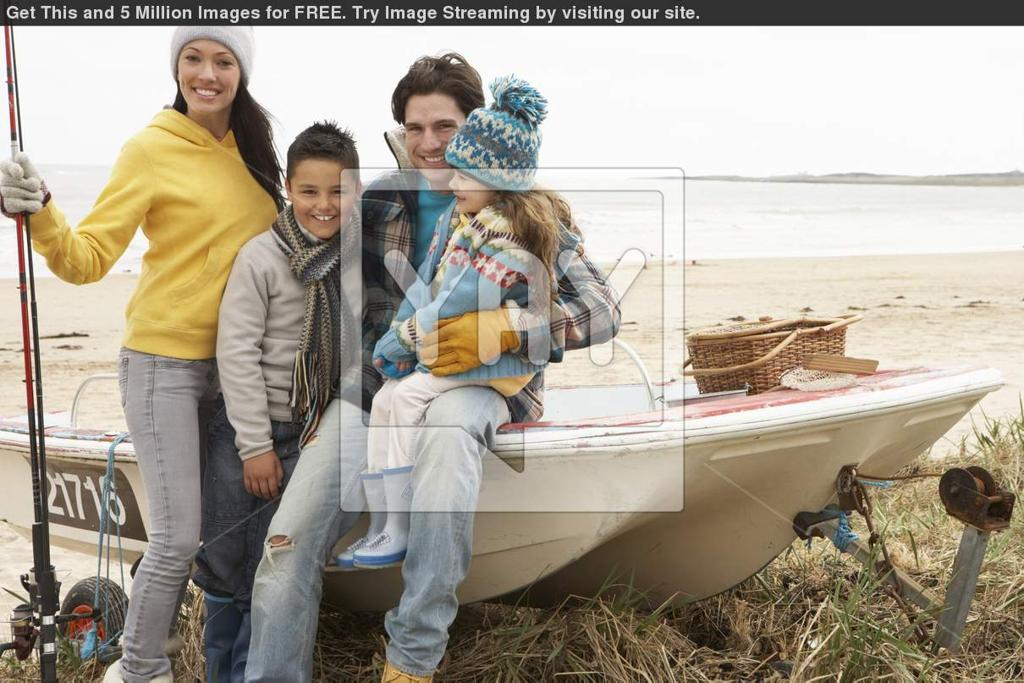face: (404, 92, 468, 179), (179, 29, 239, 113), (291, 160, 354, 239), (450, 150, 500, 212)
